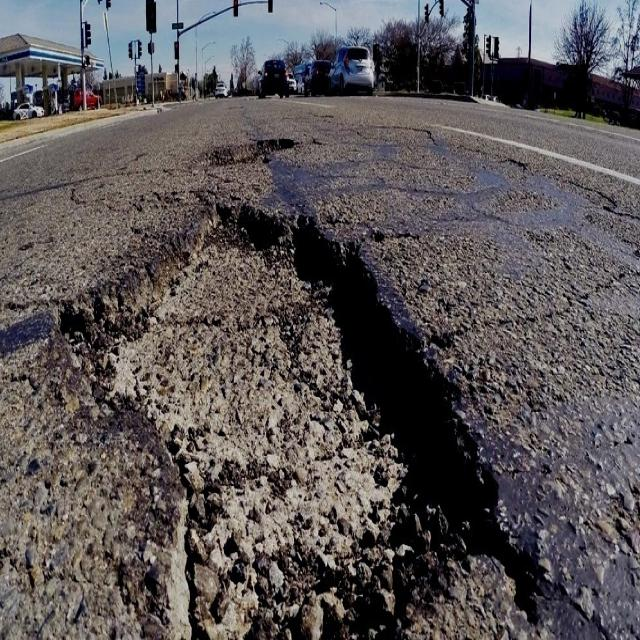road-pothole: (48, 200, 549, 635)
